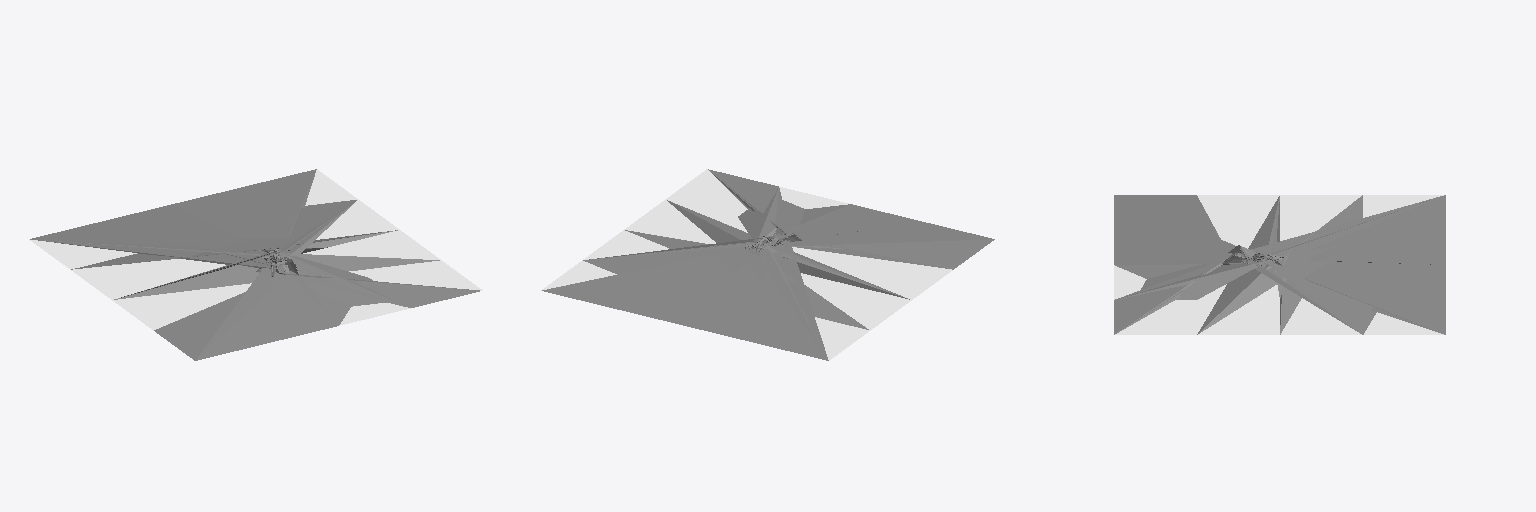
Rendered from ant.obj.
3 views of the same model, side by side, from view 1: azimuth 30°, elevation 25°; view 2: azimuth 150°, elevation 25°; view 3: azimuth 270°, elevation 25° (orthographic).
Parts seen in each view (by area): view 1: Sphere_002, Plane001; view 2: Sphere_002, Plane001; view 3: Sphere_002, Plane001.
Part boxes in pixels (x1,y1,x2,y2): Sphere_002: (30, 169, 479, 360); Plane001: (29, 169, 482, 330); Sphere_002: (542, 169, 994, 360); Plane001: (541, 169, 952, 360); Sphere_002: (1114, 195, 1445, 334); Plane001: (1114, 195, 1443, 334).
Bounding box in the file's own units: 10 × 0.5992 × 10.